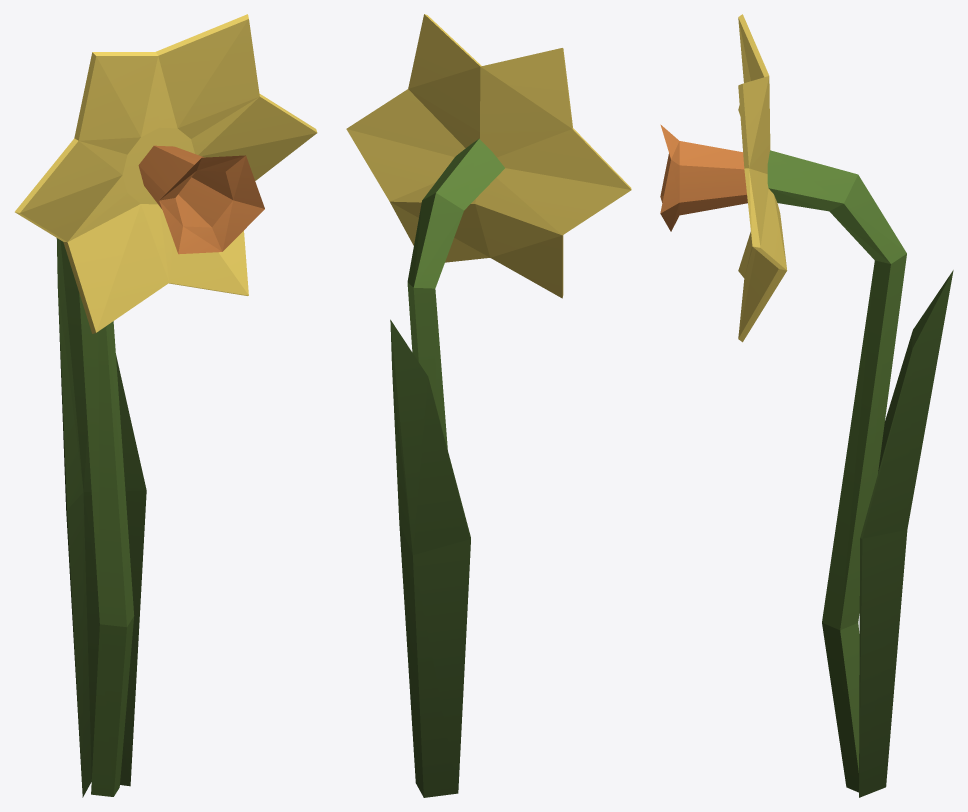
Rendered from Env_Daffodil_Low_Detail_01.obj.
3 views of the same model, side by side, from view 1: azimuth 30°, elevation 25°; view 2: azimuth 150°, elevation 25°; view 3: azimuth 270°, elevation 25° (orthographic). The views are drawn at different scales.
Visible parts, largest first — view 1: Env_Daffodil_Low_Detail_01; view 2: Env_Daffodil_Low_Detail_01; view 3: Env_Daffodil_Low_Detail_01.
Part boxes in pixels (<box>): Env_Daffodil_Low_Detail_01: <box>15,14,317,797</box>; Env_Daffodil_Low_Detail_01: <box>346,14,631,797</box>; Env_Daffodil_Low_Detail_01: <box>660,14,953,797</box>.
Bounding box in the file's own units: 0.1752 × 0.4332 × 0.1559.
Materials: 1 (1 with a texture image).
